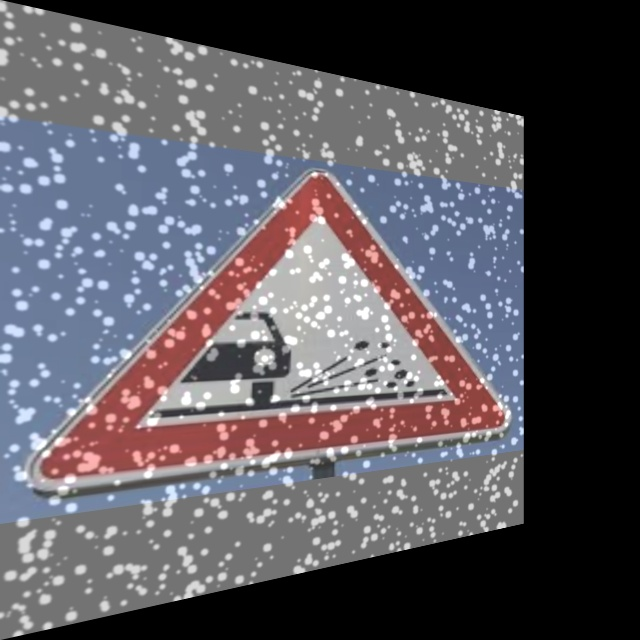Loose_Gravel: (83, 158, 493, 485)
